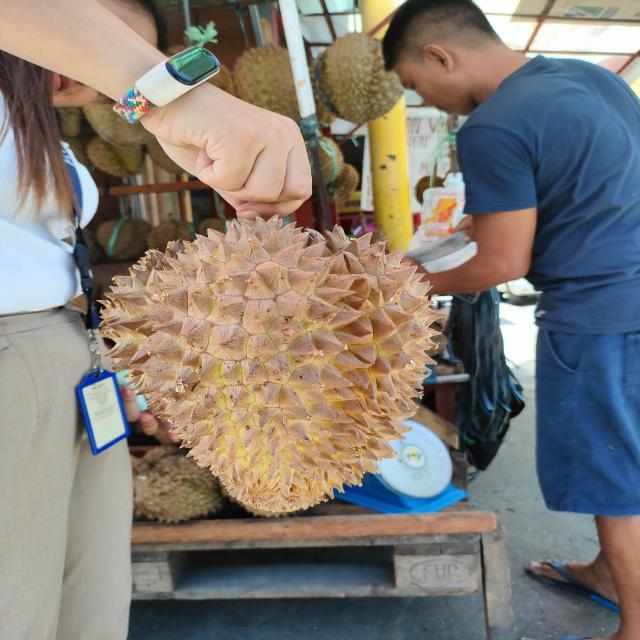mature: (90, 219, 444, 517)
